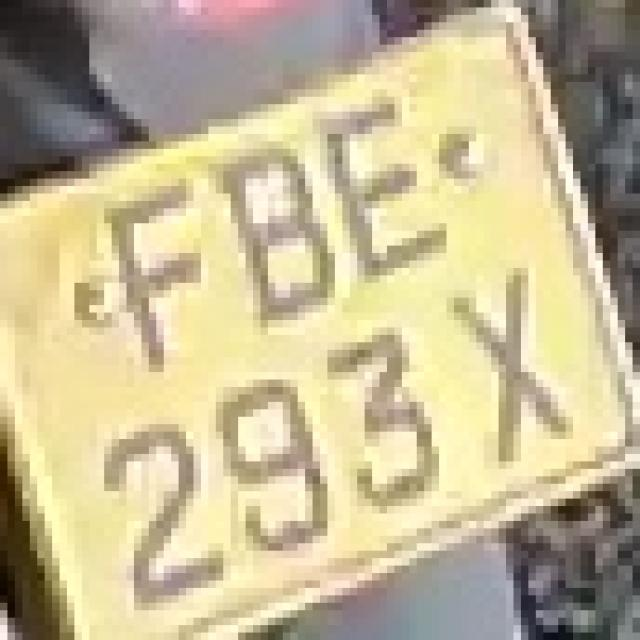2: (89, 409, 231, 618)
3: (313, 328, 432, 528)
9: (194, 372, 342, 595)
B: (201, 142, 357, 328)
E: (320, 97, 469, 275)
F: (74, 164, 231, 372)
X: (416, 268, 566, 484)
